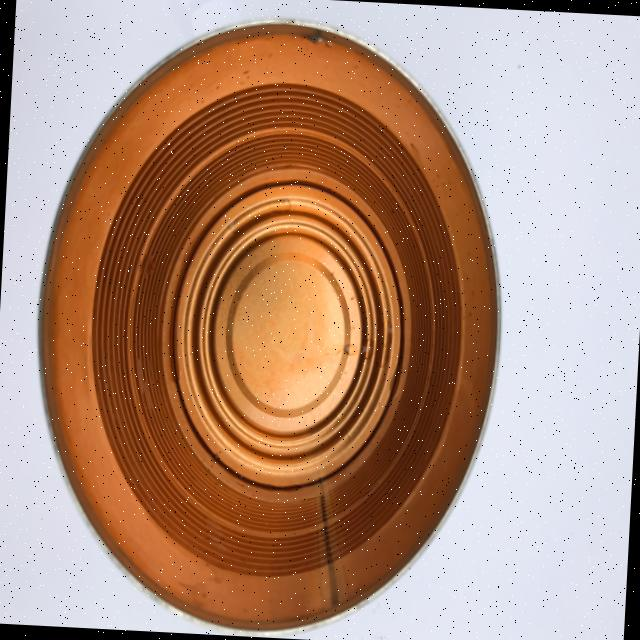metal: (21, 5, 517, 640)
